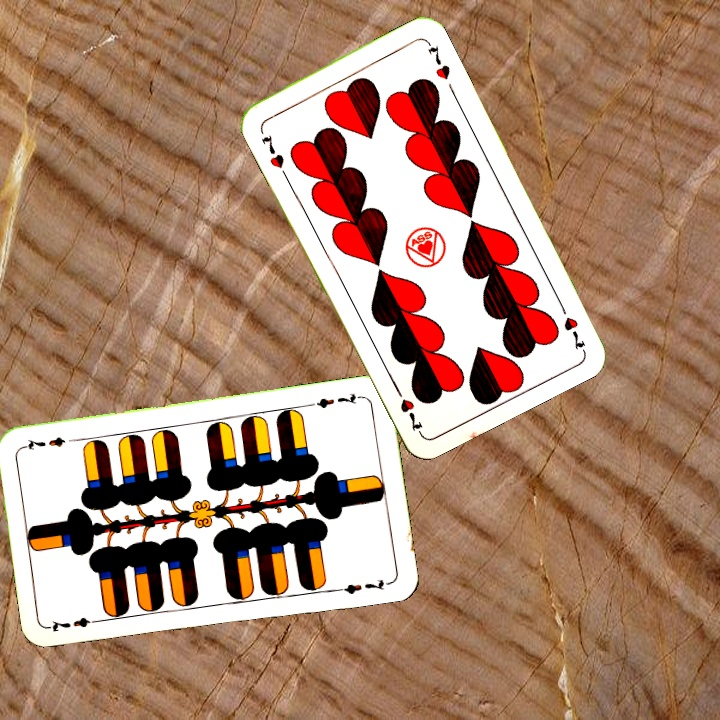E7: (46, 613, 105, 635), (307, 390, 366, 411)
H7: (554, 298, 588, 353), (257, 130, 287, 171)
